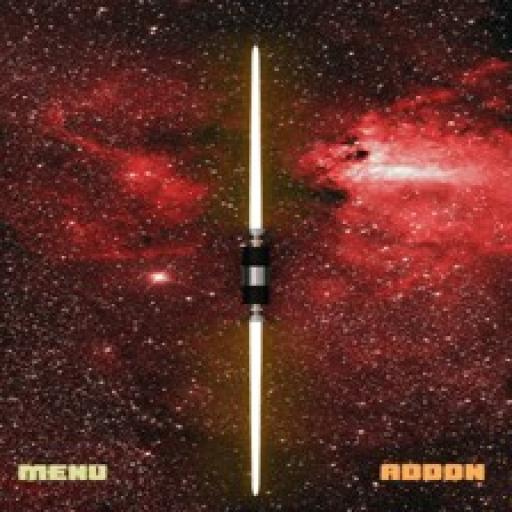lightsaber: (230, 38, 276, 512)
